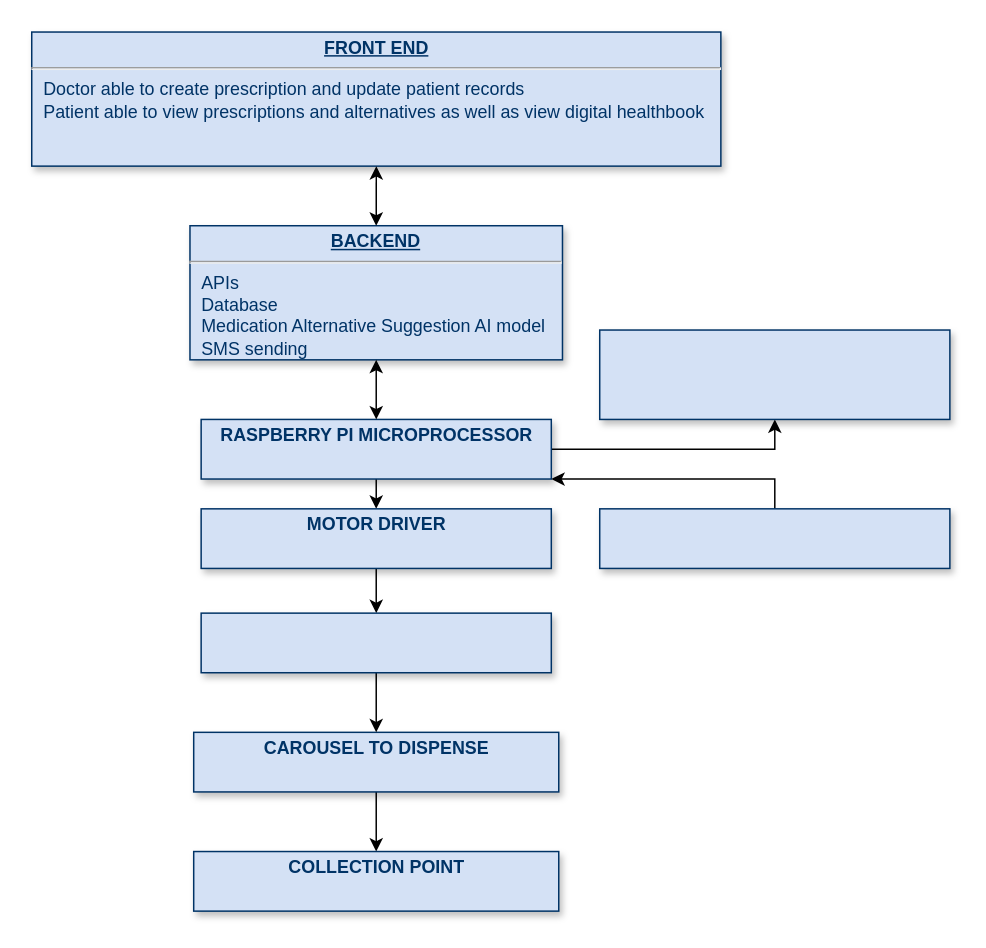
This 986x948 diagram has some shape labels left out. The centre of each missing label's shape, as x and y in pixels:
"DC POWER SUPPLY" belongs at (775,540).
"STEPPER MOTORS" belongs at (377,644).
"VENDING MACHINE USER INTERFACE (LCD OR BUTTONS)" belongs at (775,376).
